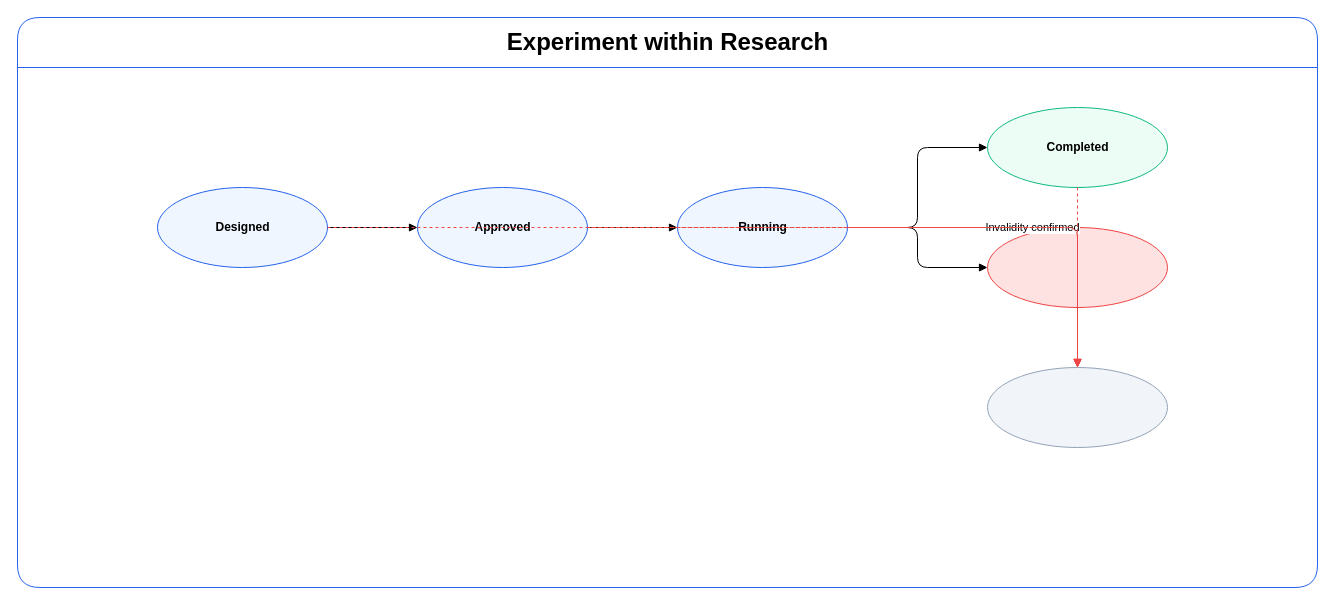
The diagram is 1335 pixels wide and 605 high, and some of its shapes have lost their labels. The box of each missing label's shape, as (x1, y1, x2, y2) in pixels:
Failed: (986, 226, 1168, 308)
Invalidated: (986, 366, 1168, 448)
